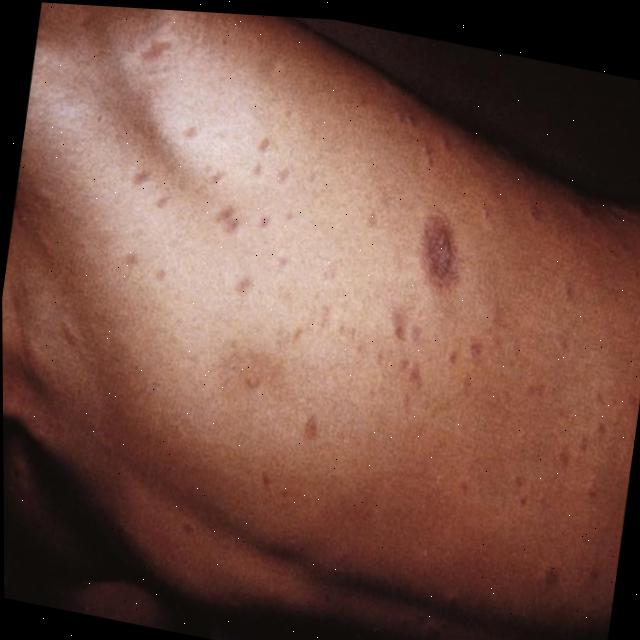Rosacea: (111, 56, 359, 343), (372, 315, 478, 429), (422, 213, 463, 269)
